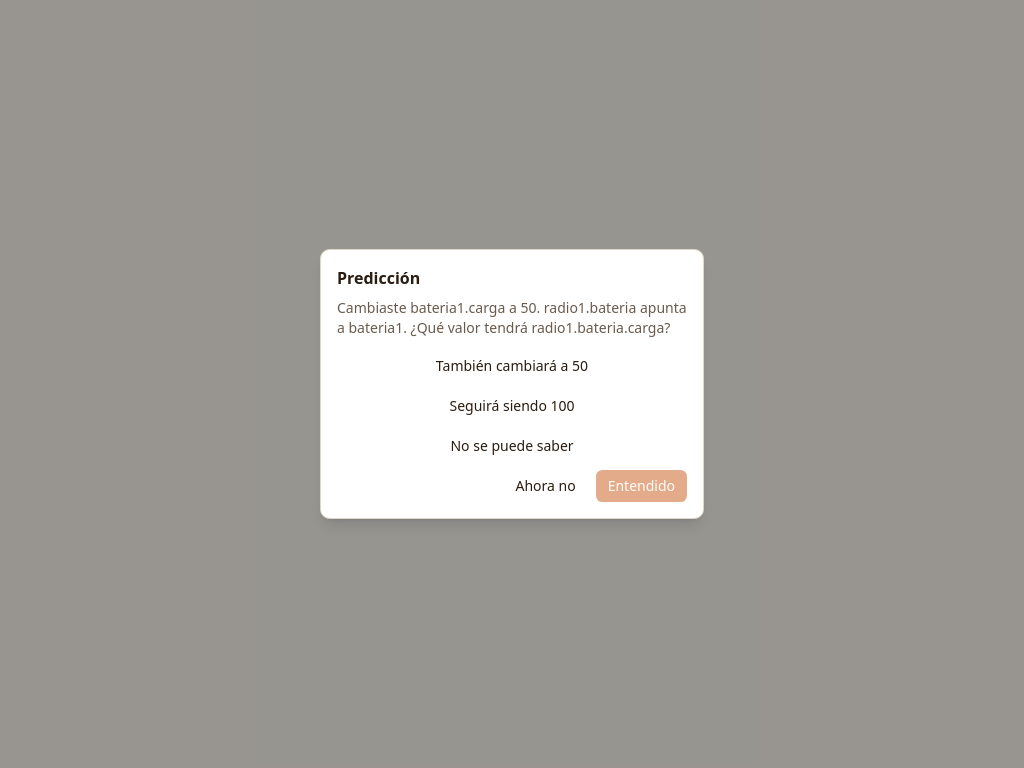
PredictionDialog › asks about a shared reference and explains that it is the same object
Expected: the text "radio1.bateria apunta a bateria1" is shown, [337, 298, 687, 337]
Step 1. Click the button "Seguirá siendo 100" → (512, 406), box [337, 390, 687, 422]
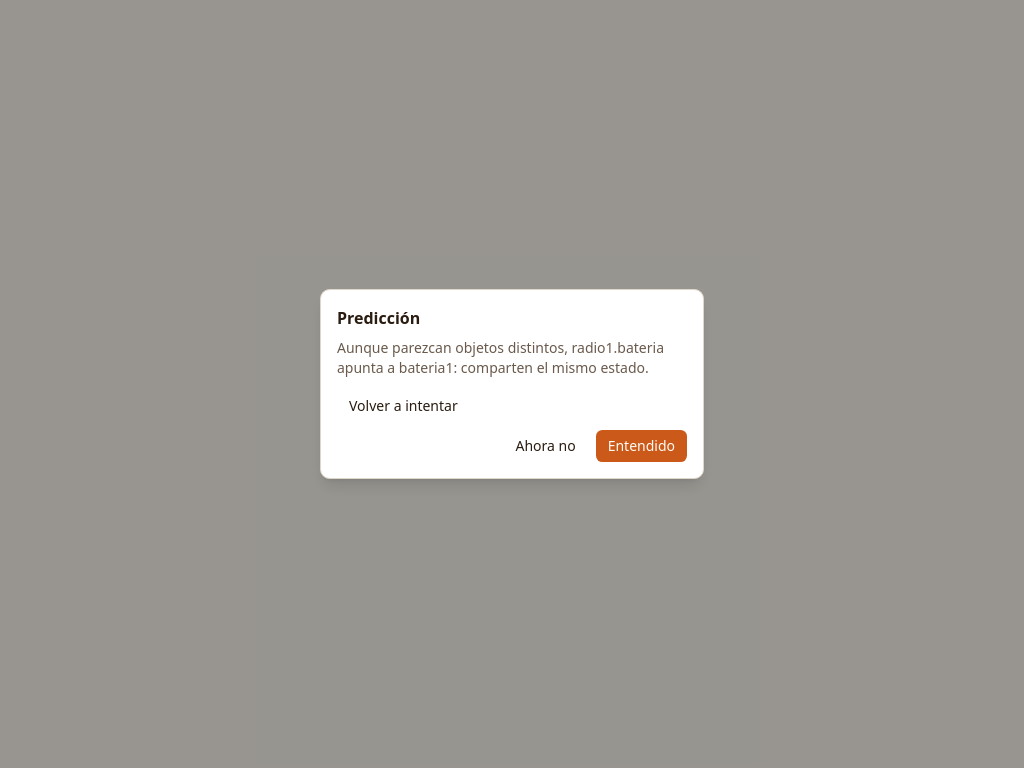
Now the text "comparten el mismo estado" is shown, box [337, 338, 664, 377]
